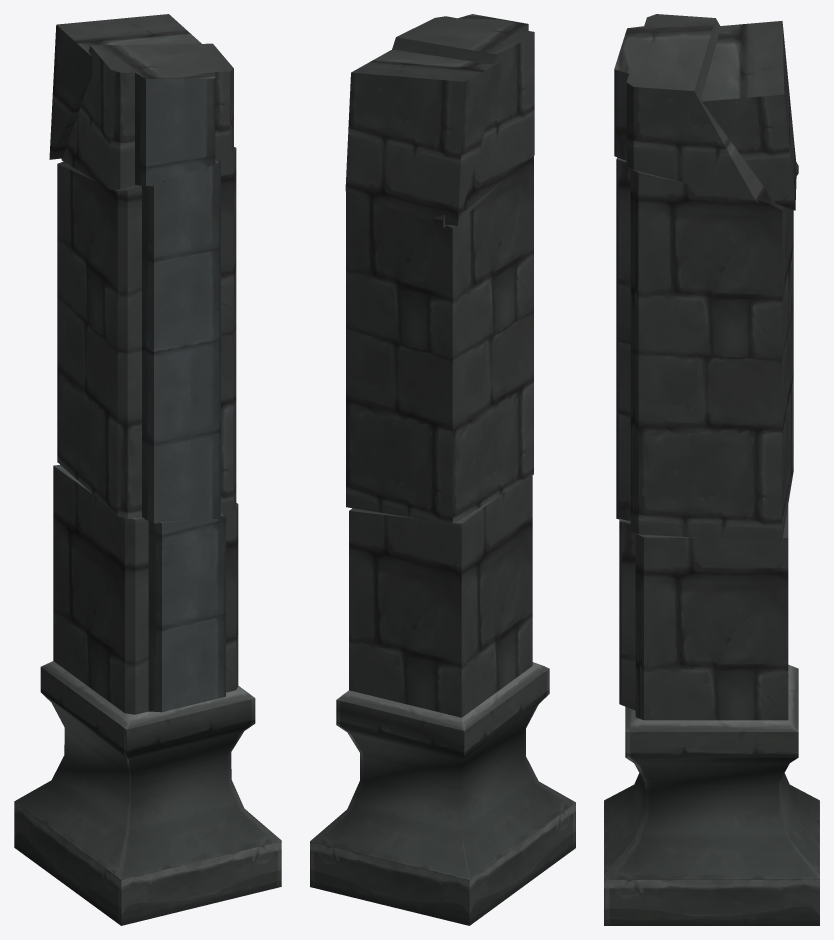
File: pillar_breaktype002.FBX
3 renders of one model, left to right at view 1: azimuth 30°, elevation 25°; view 2: azimuth 150°, elevation 25°; view 3: azimuth 270°, elevation 25°, orthographic.
Parts seen in each view (by area): view 1: pillar_breaktype002; view 2: pillar_breaktype002; view 3: pillar_breaktype002.
Boxes of the visible parts, x1,y1,x2,y2 form: pillar_breaktype002: (14,14,281,925); pillar_breaktype002: (310,14,575,925); pillar_breaktype002: (604,14,819,925).
Bounding box in the file's own units: 179 × 888 × 207.
Materials: 1 (1 with a texture image).
